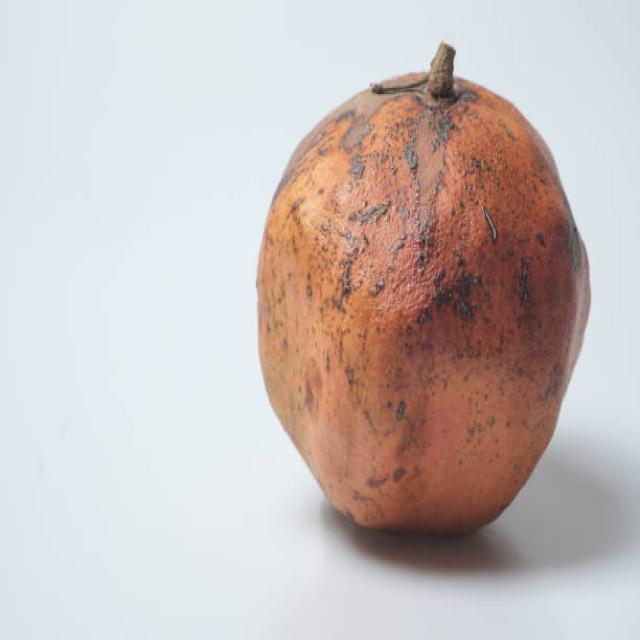overripe: (251, 40, 594, 542)
